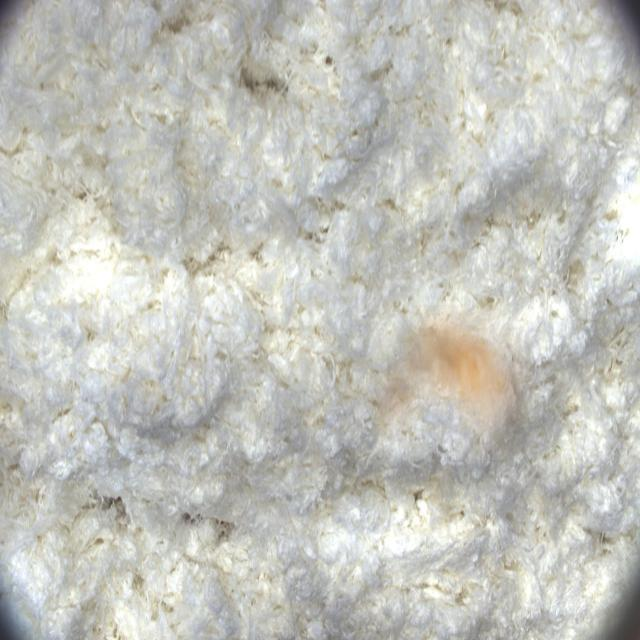dust: (375, 305, 539, 460)
